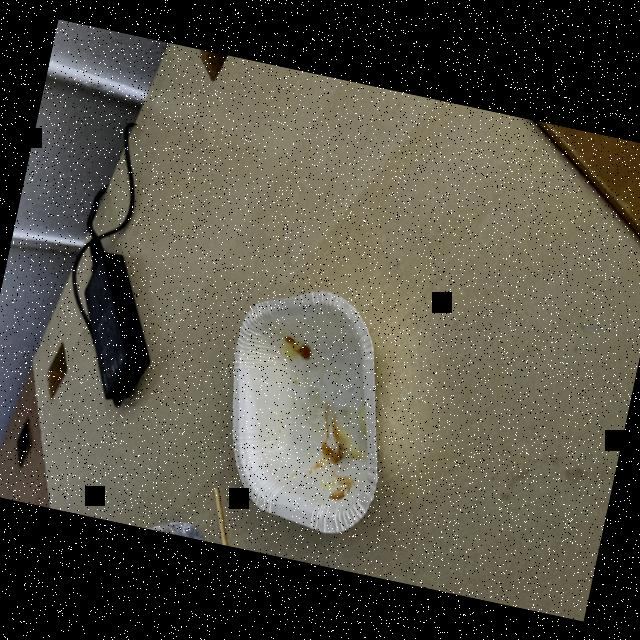cardboard_bowl: (193, 265, 424, 544)
stick: (197, 482, 240, 546)
